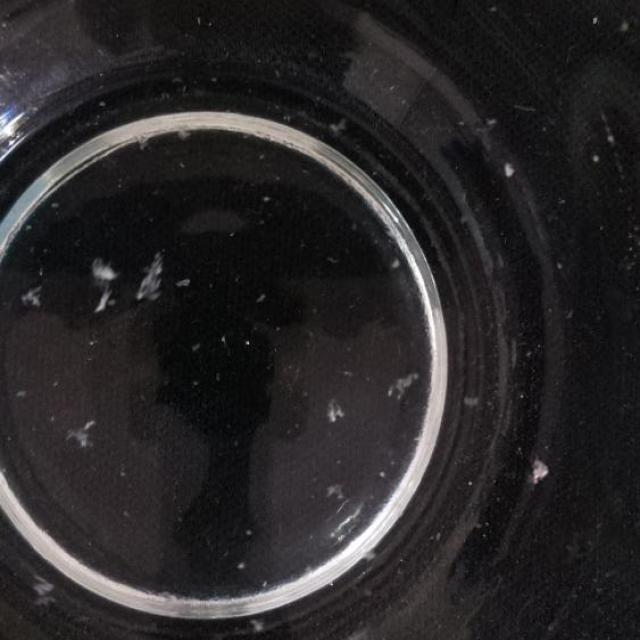fiber: (135, 254, 170, 304), (88, 259, 118, 311), (29, 574, 59, 610), (66, 420, 96, 448), (391, 370, 416, 402), (531, 457, 551, 489), (325, 393, 346, 422), (23, 277, 42, 308), (330, 470, 345, 501), (328, 118, 348, 137), (500, 159, 516, 180), (248, 615, 268, 631), (172, 128, 191, 142), (464, 392, 479, 408), (220, 332, 230, 356), (389, 256, 402, 273), (253, 293, 267, 307), (136, 129, 146, 147), (177, 276, 189, 290), (377, 465, 388, 480), (236, 562, 250, 572), (487, 115, 498, 126), (590, 13, 599, 25), (245, 527, 254, 538), (263, 194, 270, 208), (192, 340, 200, 352), (49, 198, 58, 208), (18, 387, 26, 398), (177, 159, 186, 167), (245, 338, 253, 347), (593, 154, 598, 163)
